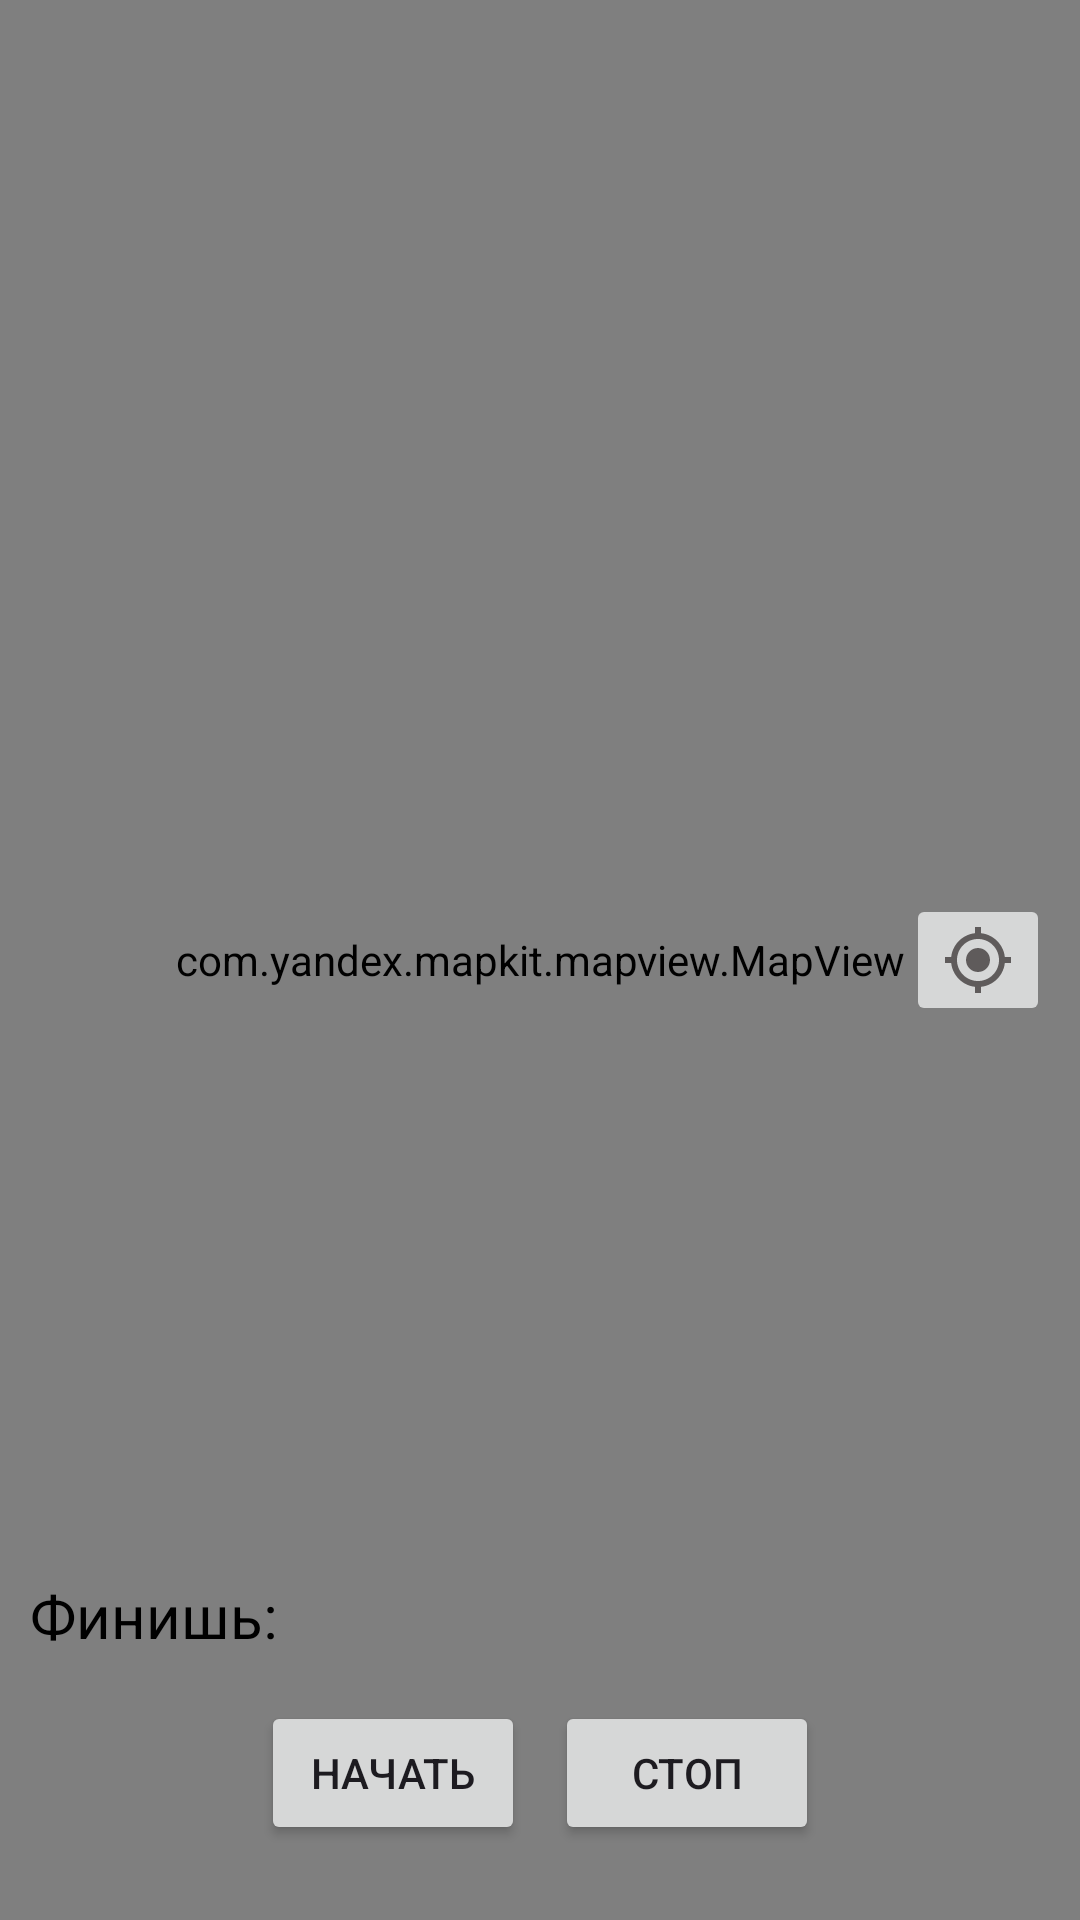

Icon click points for this 1080 x 1920 phone screenshot, format (x,y):
location: (978,960)
